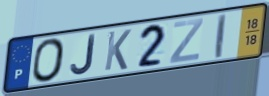2: (135, 22, 168, 72)
I: (214, 12, 228, 60)
J: (69, 32, 97, 77)
K: (103, 28, 133, 73)
O: (31, 36, 67, 84)
Z: (168, 17, 205, 65)
